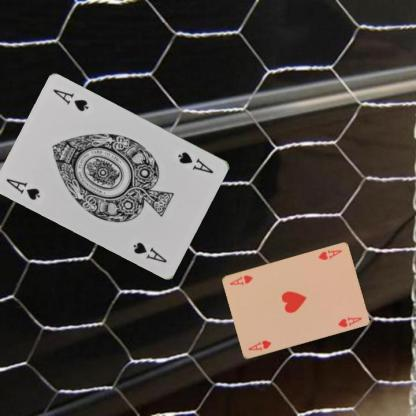Ah: (316, 247, 343, 262), (246, 338, 272, 352)
As: (175, 149, 215, 175), (4, 176, 42, 202)
